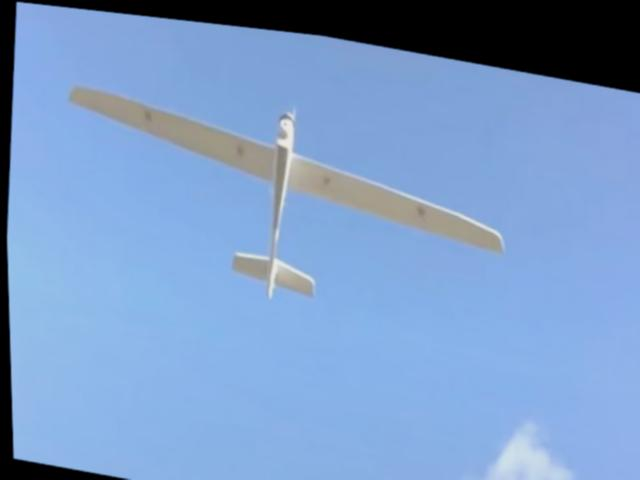iha: (53, 64, 515, 329)
